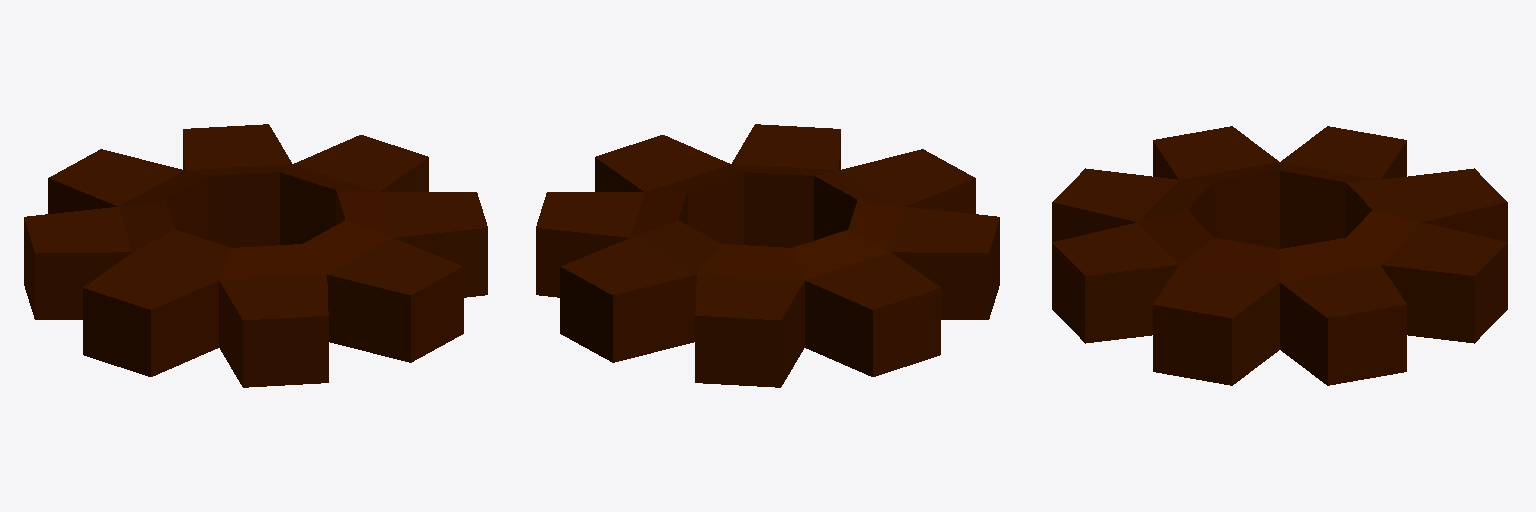
The model's file is gearSimple.obj.
3 views of the same model, side by side, from view 1: azimuth 30°, elevation 25°; view 2: azimuth 150°, elevation 25°; view 3: azimuth 270°, elevation 25° (orthographic).
Visible parts, largest first — view 1: gearSimple; view 2: gearSimple; view 3: gearSimple.
Part boxes in pixels (x1,y1,x2,y2): gearSimple: (24, 124, 487, 387); gearSimple: (536, 124, 999, 387); gearSimple: (1052, 126, 1507, 385).
Size of the model in its own units: 4.33 by 0.9655 by 4.33.